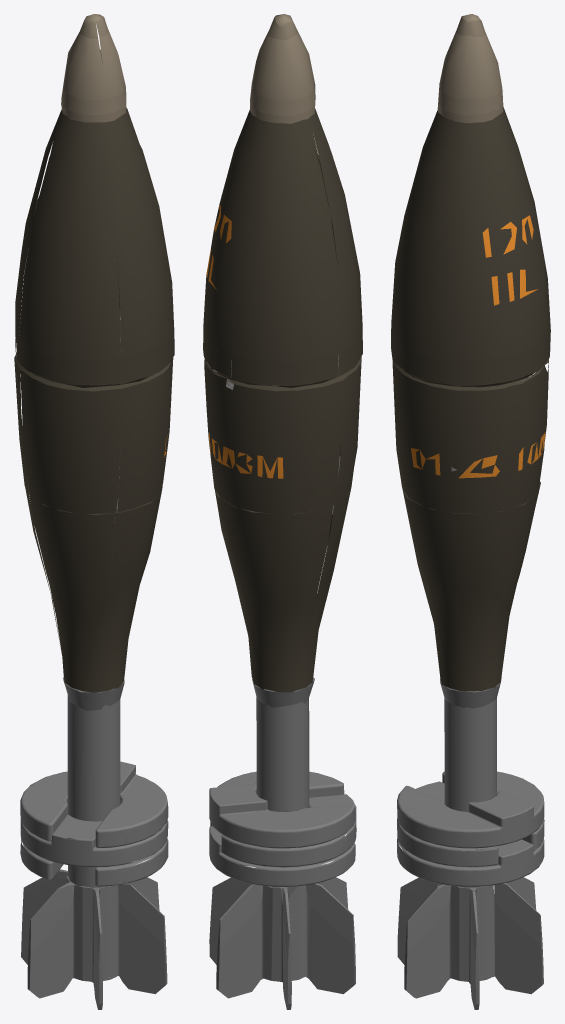
File: mina.glb
The picture shows the model from 3 angles, left to right: view 1: azimuth 30°, elevation 25°; view 2: azimuth 150°, elevation 25°; view 3: azimuth 270°, elevation 25°; orthographic projection.
Visible parts, largest first — view 1: 120_mm_NMB-1, Additional_charge_120_2_-1; view 2: 120_mm_NMB-1, Additional_charge_120_2_-1; view 3: 120_mm_NMB-1, Additional_charge_120_2_-1.
Boxes of the visible parts, x1=… form: 120_mm_NMB-1: x1=14, y1=14, x2=174, y2=1009; Additional_charge_120_2_-1: x1=20, y1=761, x2=168, y2=886; 120_mm_NMB-1: x1=203, y1=14, x2=362, y2=1009; Additional_charge_120_2_-1: x1=209, y1=771, x2=356, y2=886; 120_mm_NMB-1: x1=391, y1=14, x2=550, y2=1009; Additional_charge_120_2_-1: x1=397, y1=771, x2=544, y2=886.
Bounding box in the file's own units: 0.1194 × 0.7979 × 0.1194.
